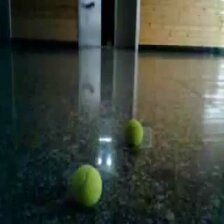tennis: (67, 163, 102, 208), (125, 119, 144, 149)
